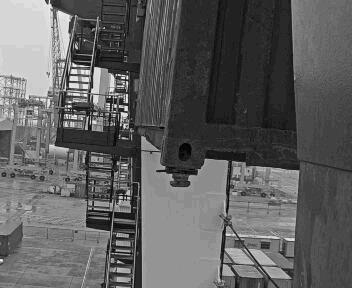twist_lock_1: (175, 164, 219, 196)
